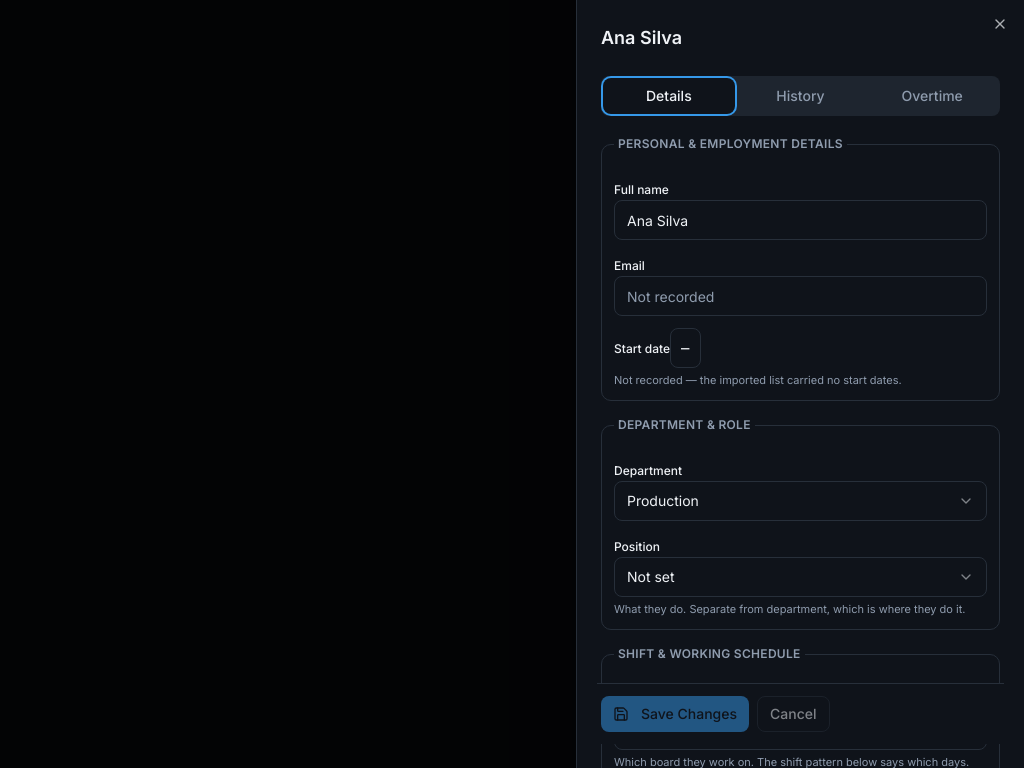
Edit Employee, as one form › asks before closing with unsaved edits, and closes straight away when nothing changed
Later steps or results of the test are not shown.
Check: the field labelled "Full name" is shown, box [614,200,987,240]
Press Escape
Replace the text in the field labelled "Full name" with "Ana Souza" at (800, 220), box [614,200,987,240]
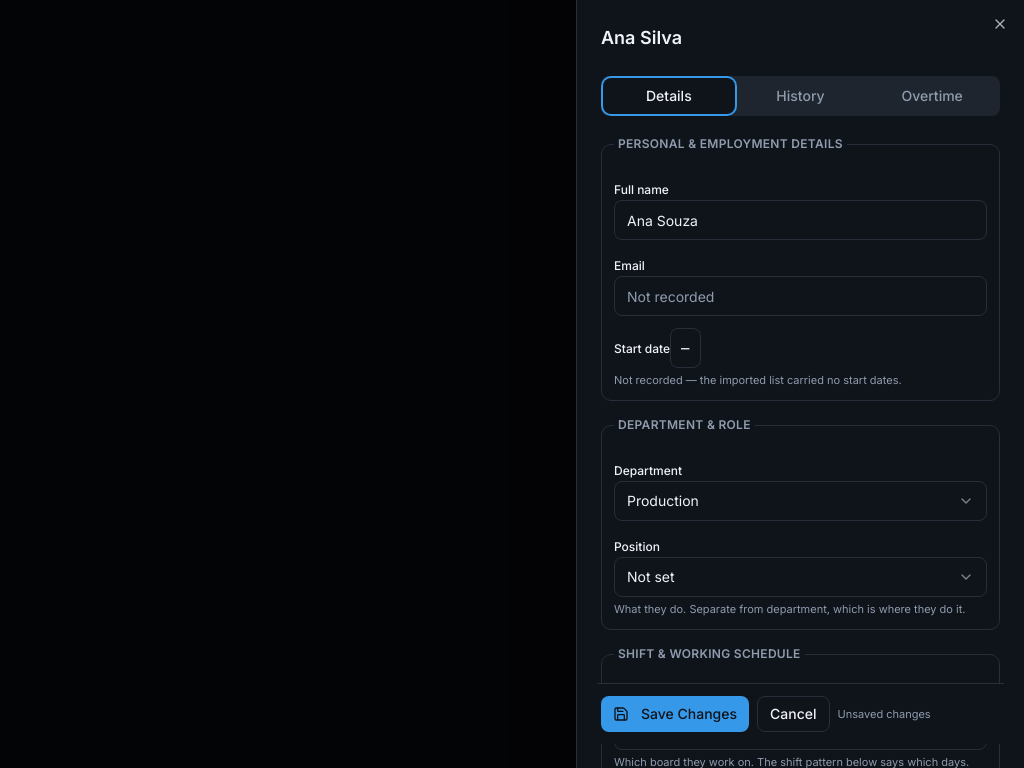
Press Escape
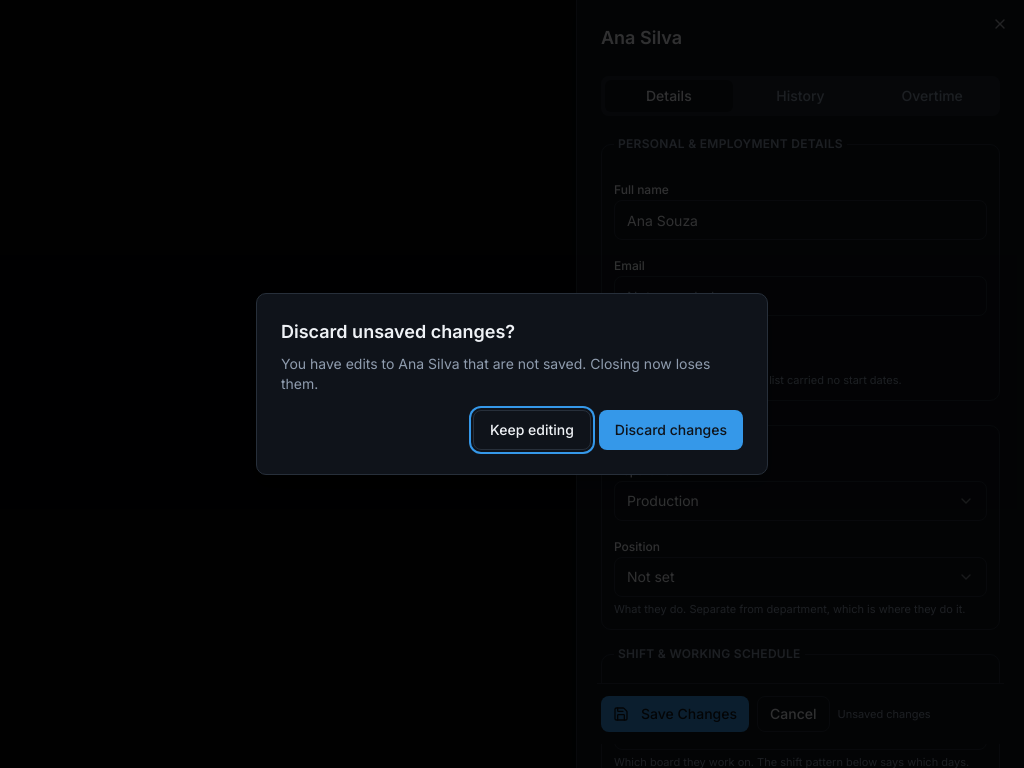
Check: the heading "Discard unsaved changes?" is shown, box [281,321,515,342]
